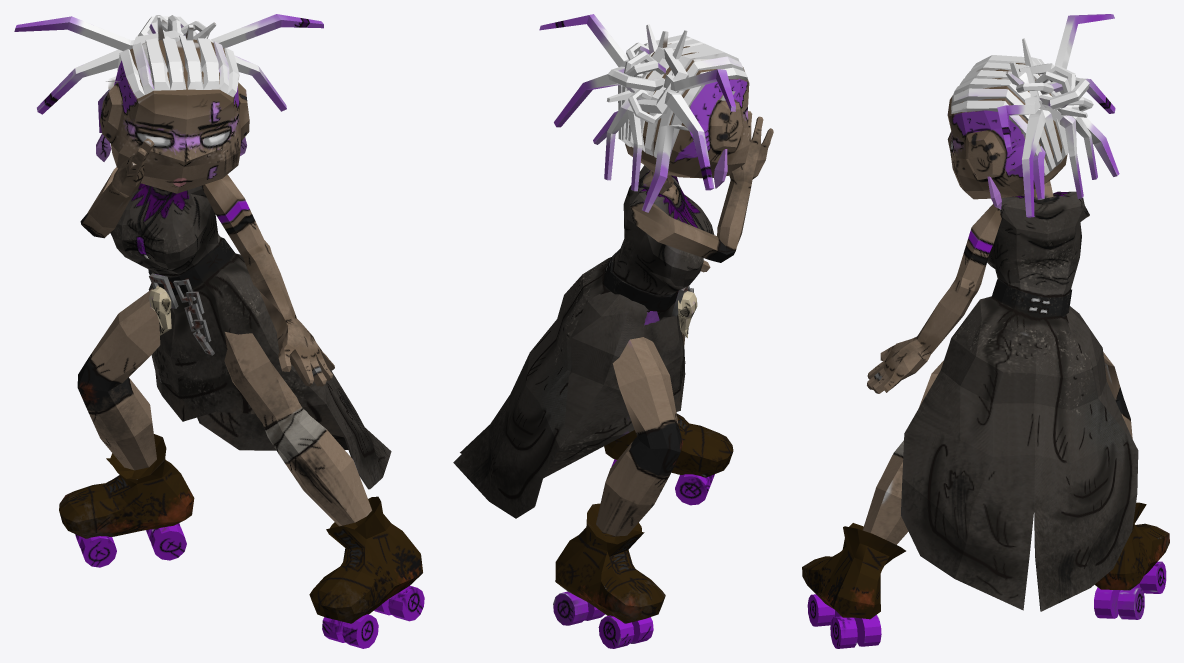
The model's file is bruja_000078.obj.
The picture shows the model from 3 angles, left to right: view 1: azimuth 30°, elevation 25°; view 2: azimuth 150°, elevation 25°; view 3: azimuth 270°, elevation 25°; orthographic projection. The views are drawn at different scales.
Parts seen in each view (by area): view 1: Bruja_Plane.001; view 2: Bruja_Plane.001; view 3: Bruja_Plane.001.
Boxes of the visible parts, box(x1,y1,x2,y2) form: Bruja_Plane.001: box(14, 14, 424, 648); Bruja_Plane.001: box(453, 14, 773, 648); Bruja_Plane.001: box(802, 14, 1169, 648).
Size of the model in its own units: 9.08 by 15.42 by 9.26.
